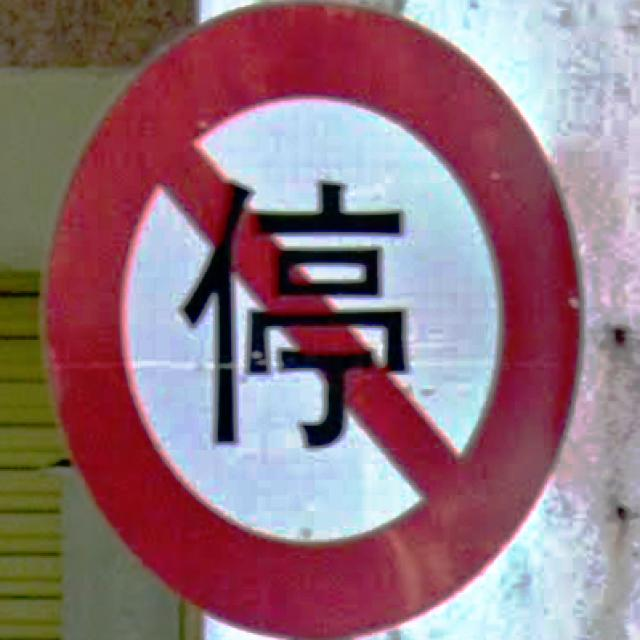nopark: (35, 0, 587, 638)
